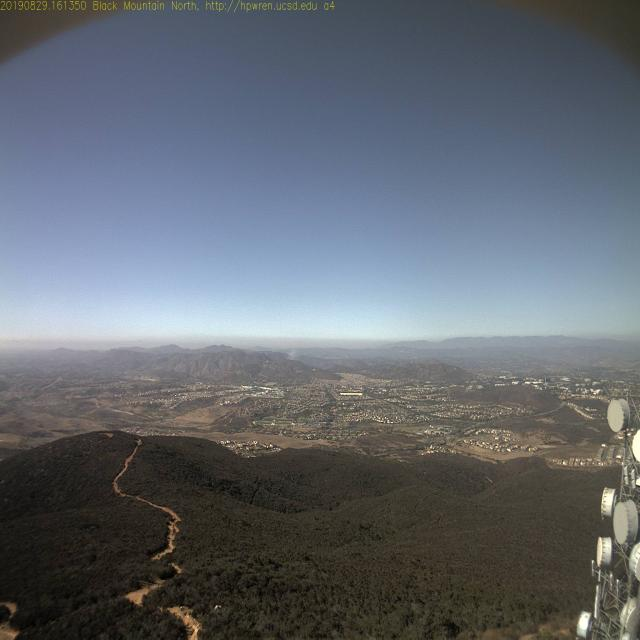smoke: (284, 339, 300, 363)
